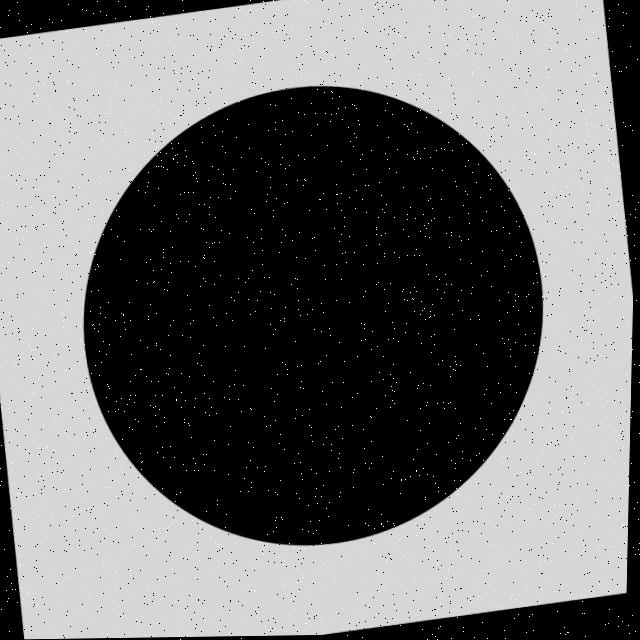CIRCLE: (85, 87, 544, 545)
